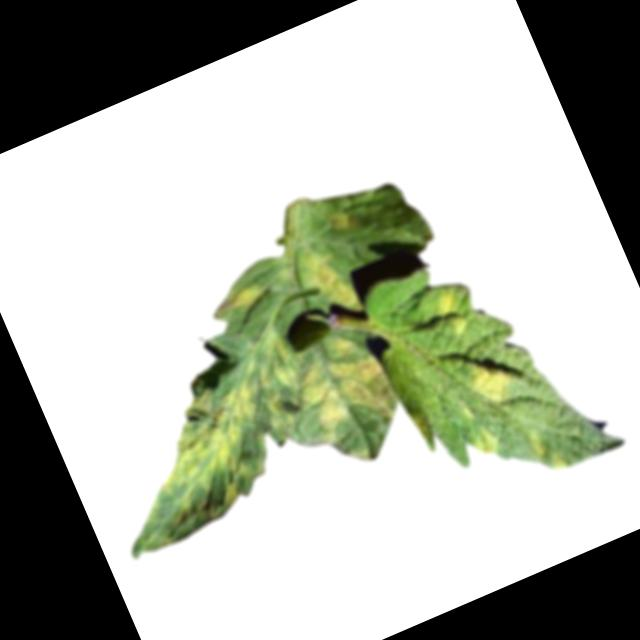Leaf_Mold: (74, 338, 329, 563), (279, 322, 405, 452), (289, 232, 365, 324), (459, 353, 524, 419), (207, 275, 267, 322), (431, 283, 477, 343), (526, 421, 572, 480), (463, 422, 503, 467), (325, 208, 352, 236)
